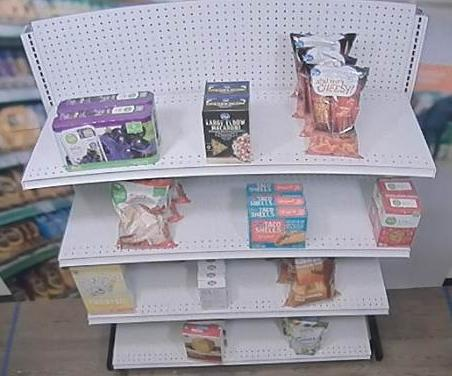stockout: (367, 68, 425, 164), (307, 175, 376, 247), (251, 77, 303, 163), (58, 184, 119, 255), (182, 179, 245, 245), (152, 83, 203, 164), (132, 265, 197, 311), (24, 98, 62, 175), (111, 326, 187, 364), (336, 258, 389, 309), (226, 320, 290, 360), (227, 262, 281, 309), (322, 318, 372, 354)
